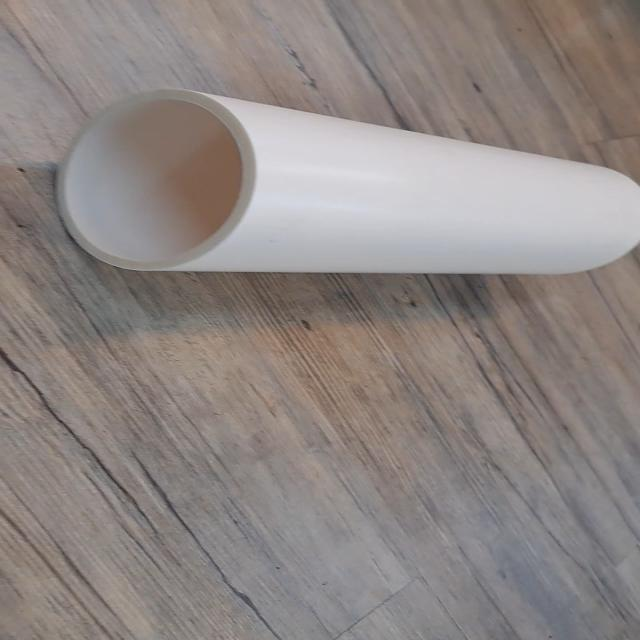CORAL: (30, 59, 640, 318)
